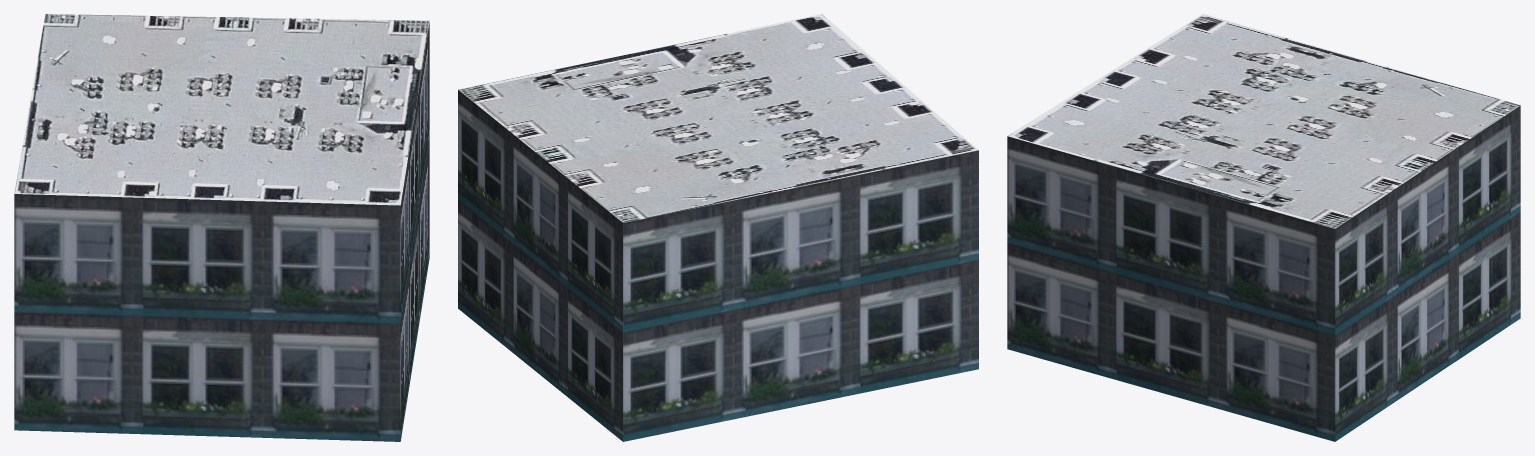
The model's file is ResTex__5192.fbx.
3 views of the same model, side by side, from view 1: azimuth 30°, elevation 25°; view 2: azimuth 150°, elevation 25°; view 3: azimuth 270°, elevation 25° (orthographic). The views are drawn at different scales.
Visible parts, largest first — view 1: CityEngineMaterial_11_m, CityEngineMaterial_4_m; view 2: CityEngineMaterial_11_m, CityEngineMaterial_4_m; view 3: CityEngineMaterial_11_m, CityEngineMaterial_4_m.
Part boxes in pixels (bbox=[...]): CityEngineMaterial_11_m: bbox=[14, 23, 429, 441]; CityEngineMaterial_4_m: bbox=[14, 14, 429, 205]; CityEngineMaterial_11_m: bbox=[458, 90, 978, 441]; CityEngineMaterial_4_m: bbox=[458, 14, 978, 222]; CityEngineMaterial_11_m: bbox=[1007, 105, 1520, 441]; CityEngineMaterial_4_m: bbox=[1007, 14, 1520, 228].
Bounding box in the file's own units: 12.99 × 6 × 13.11.
2 materials, 2 textured.
